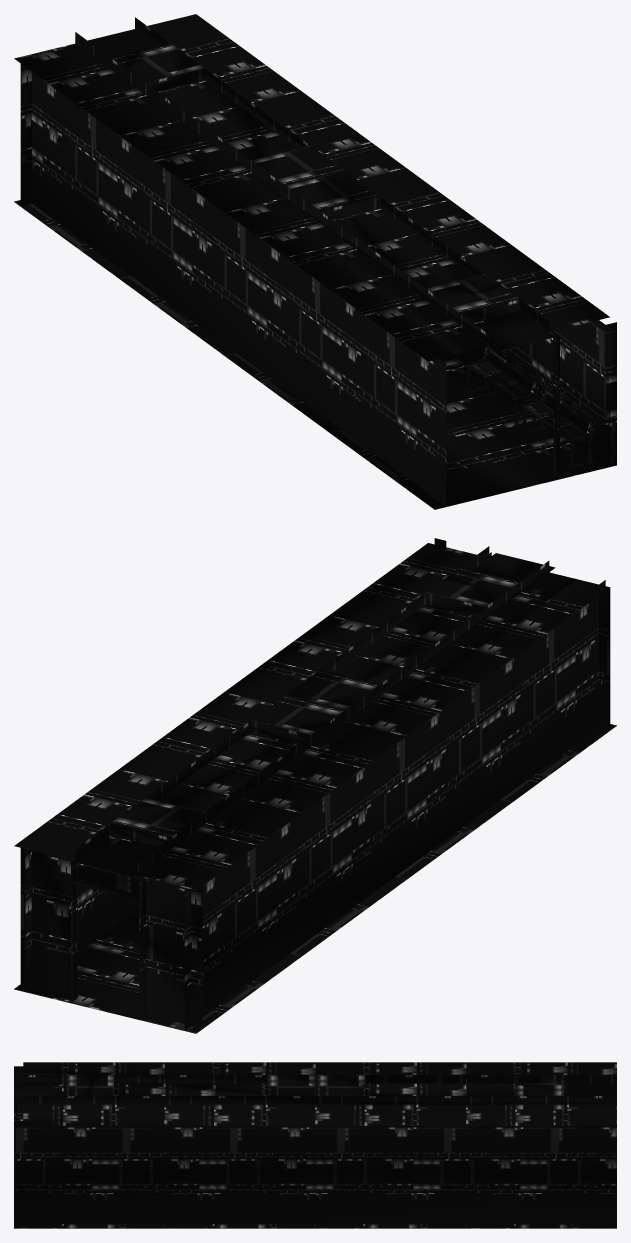
The model's file is room2z3_opt.obj.
3 views of the same model, one above another, from view 1: azimuth 30°, elevation 25°; view 2: azimuth 150°, elevation 25°; view 3: azimuth 270°, elevation 25° (orthographic). The views are drawn at different scales.
Size of the model in its own units: 25.6 by 21.99 by 102.
Materials: 7 (7 with a texture image).
